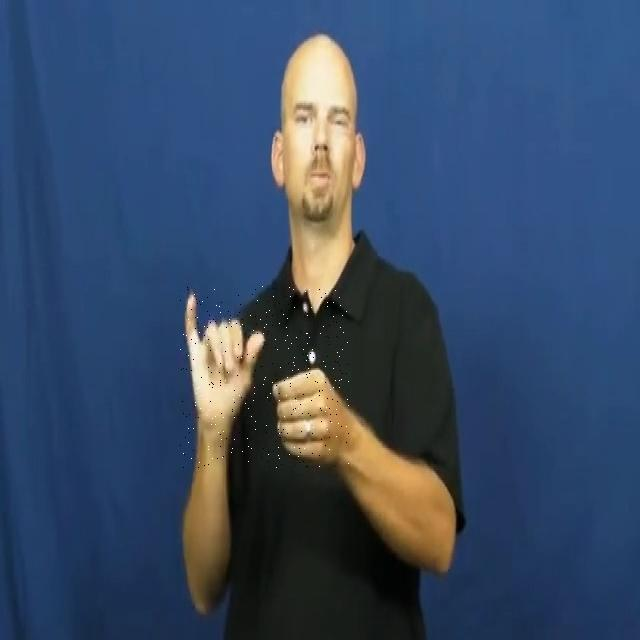soda: (180, 286, 351, 468)
